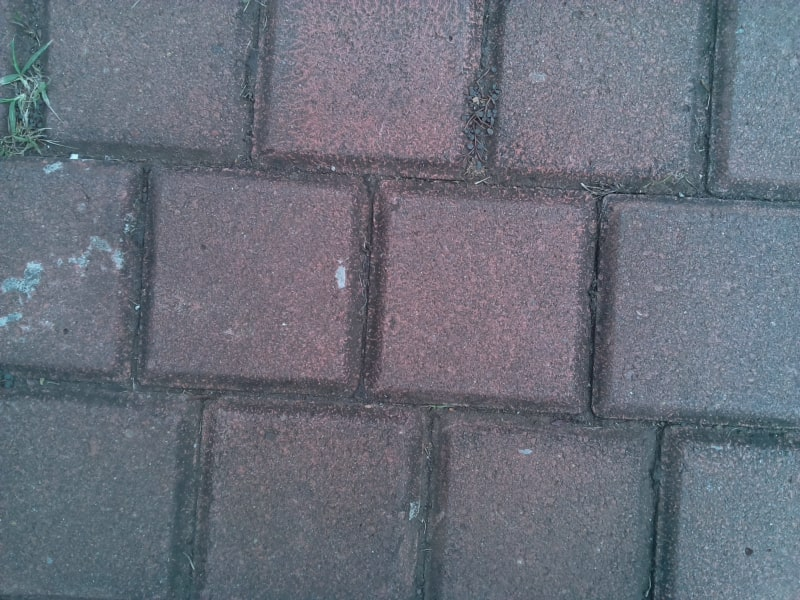Weed: (1, 32, 59, 160), (462, 61, 501, 153)
